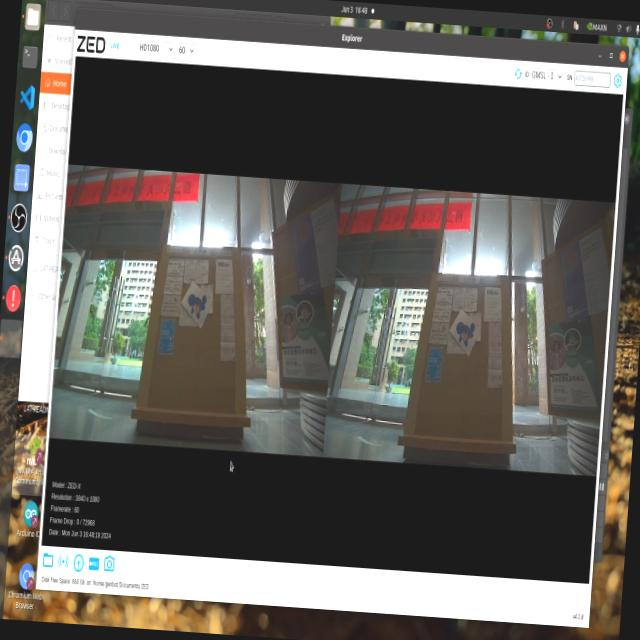blue: (446, 312, 478, 346), (184, 292, 214, 326)
